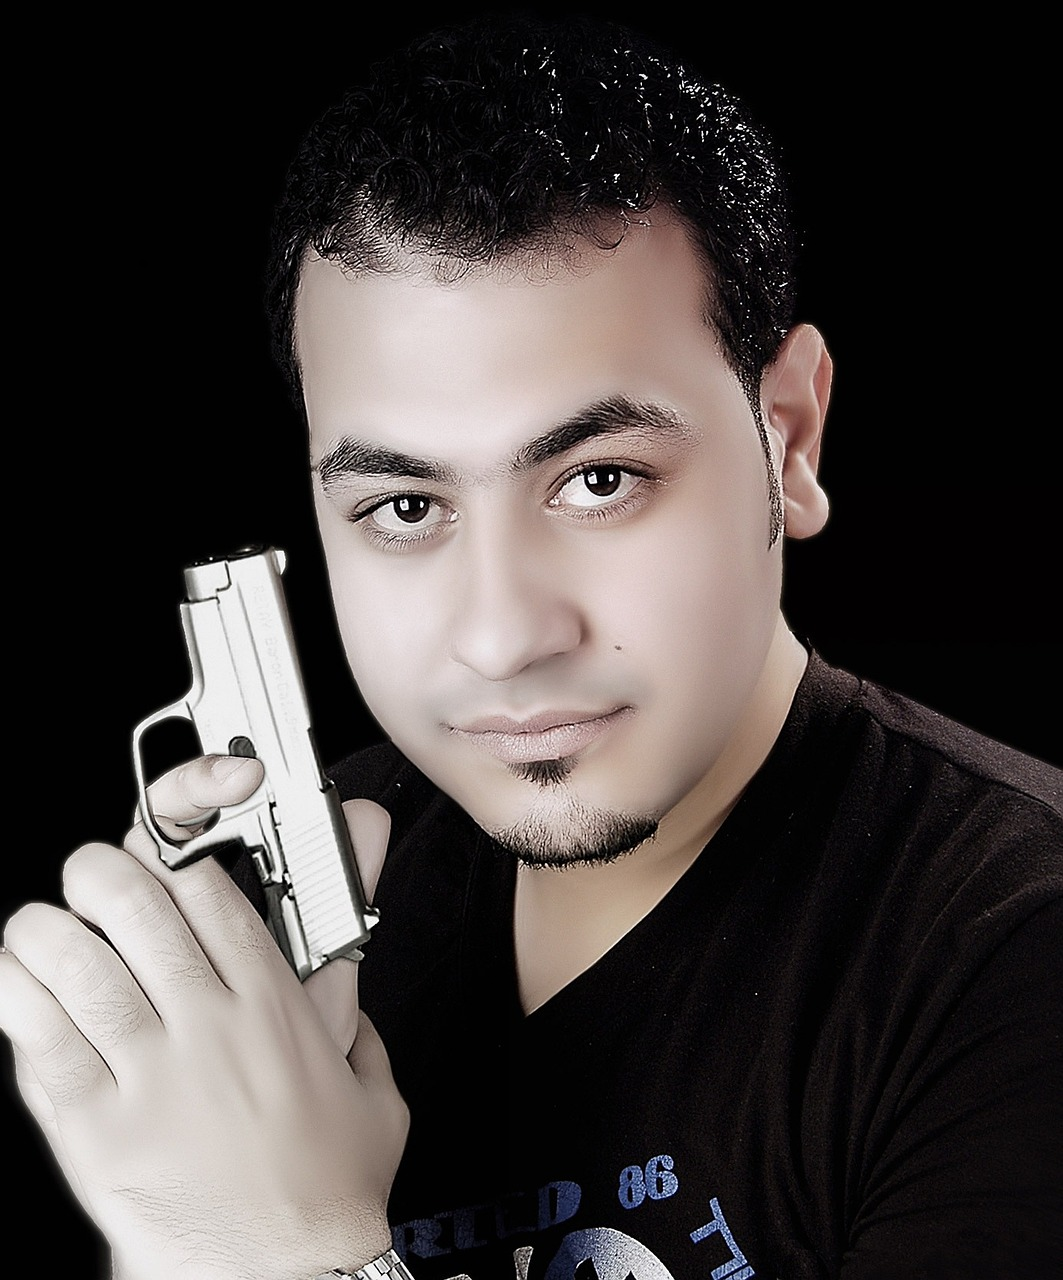gun: (123, 534, 389, 987)
